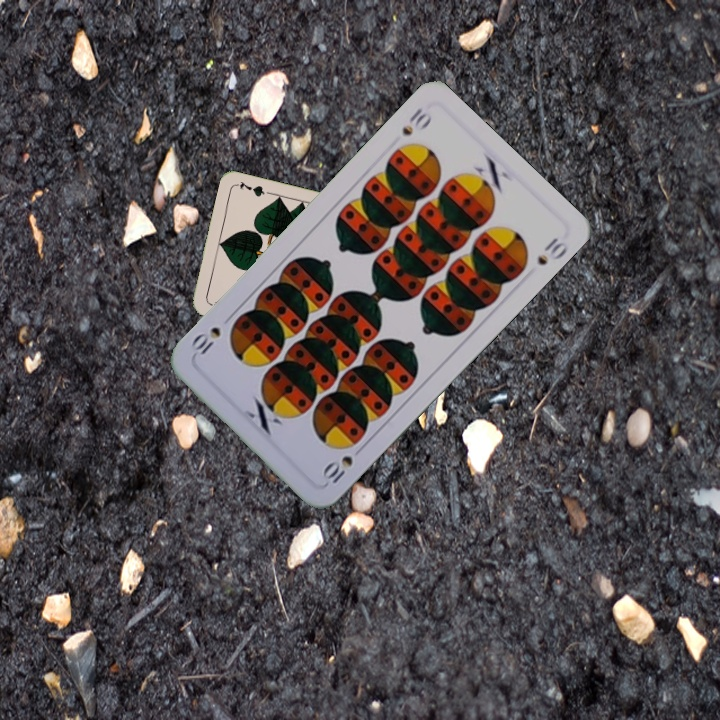S10: (317, 441, 367, 489), (397, 104, 435, 139)
